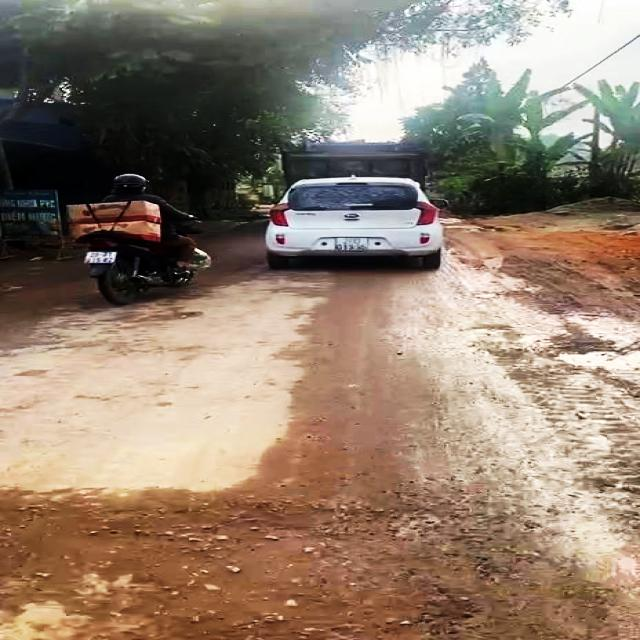pothole: (0, 493, 474, 640), (558, 342, 640, 376)
